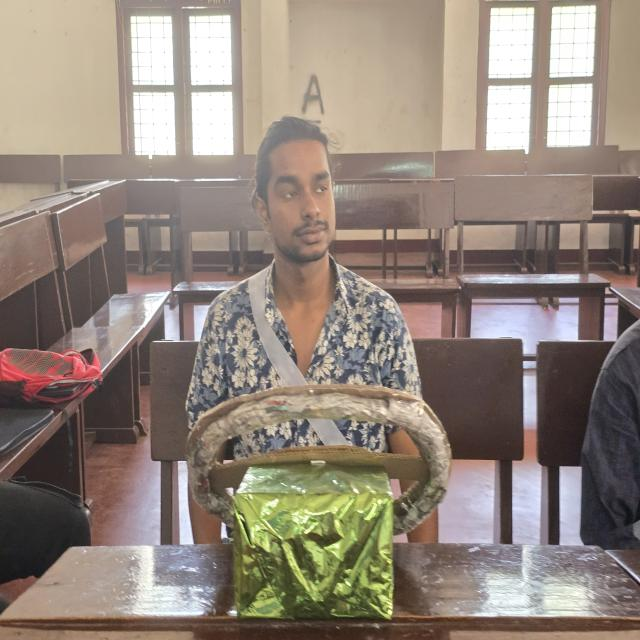seatbelt: (224, 287, 394, 441)
